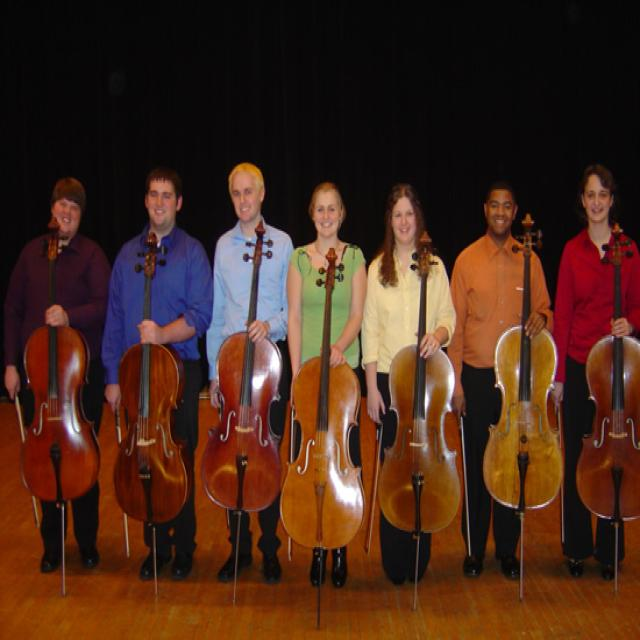cello: (194, 216, 285, 512), (376, 235, 464, 537), (279, 245, 366, 548), (480, 211, 564, 510), (17, 216, 102, 507), (111, 225, 187, 534), (571, 221, 640, 526)
